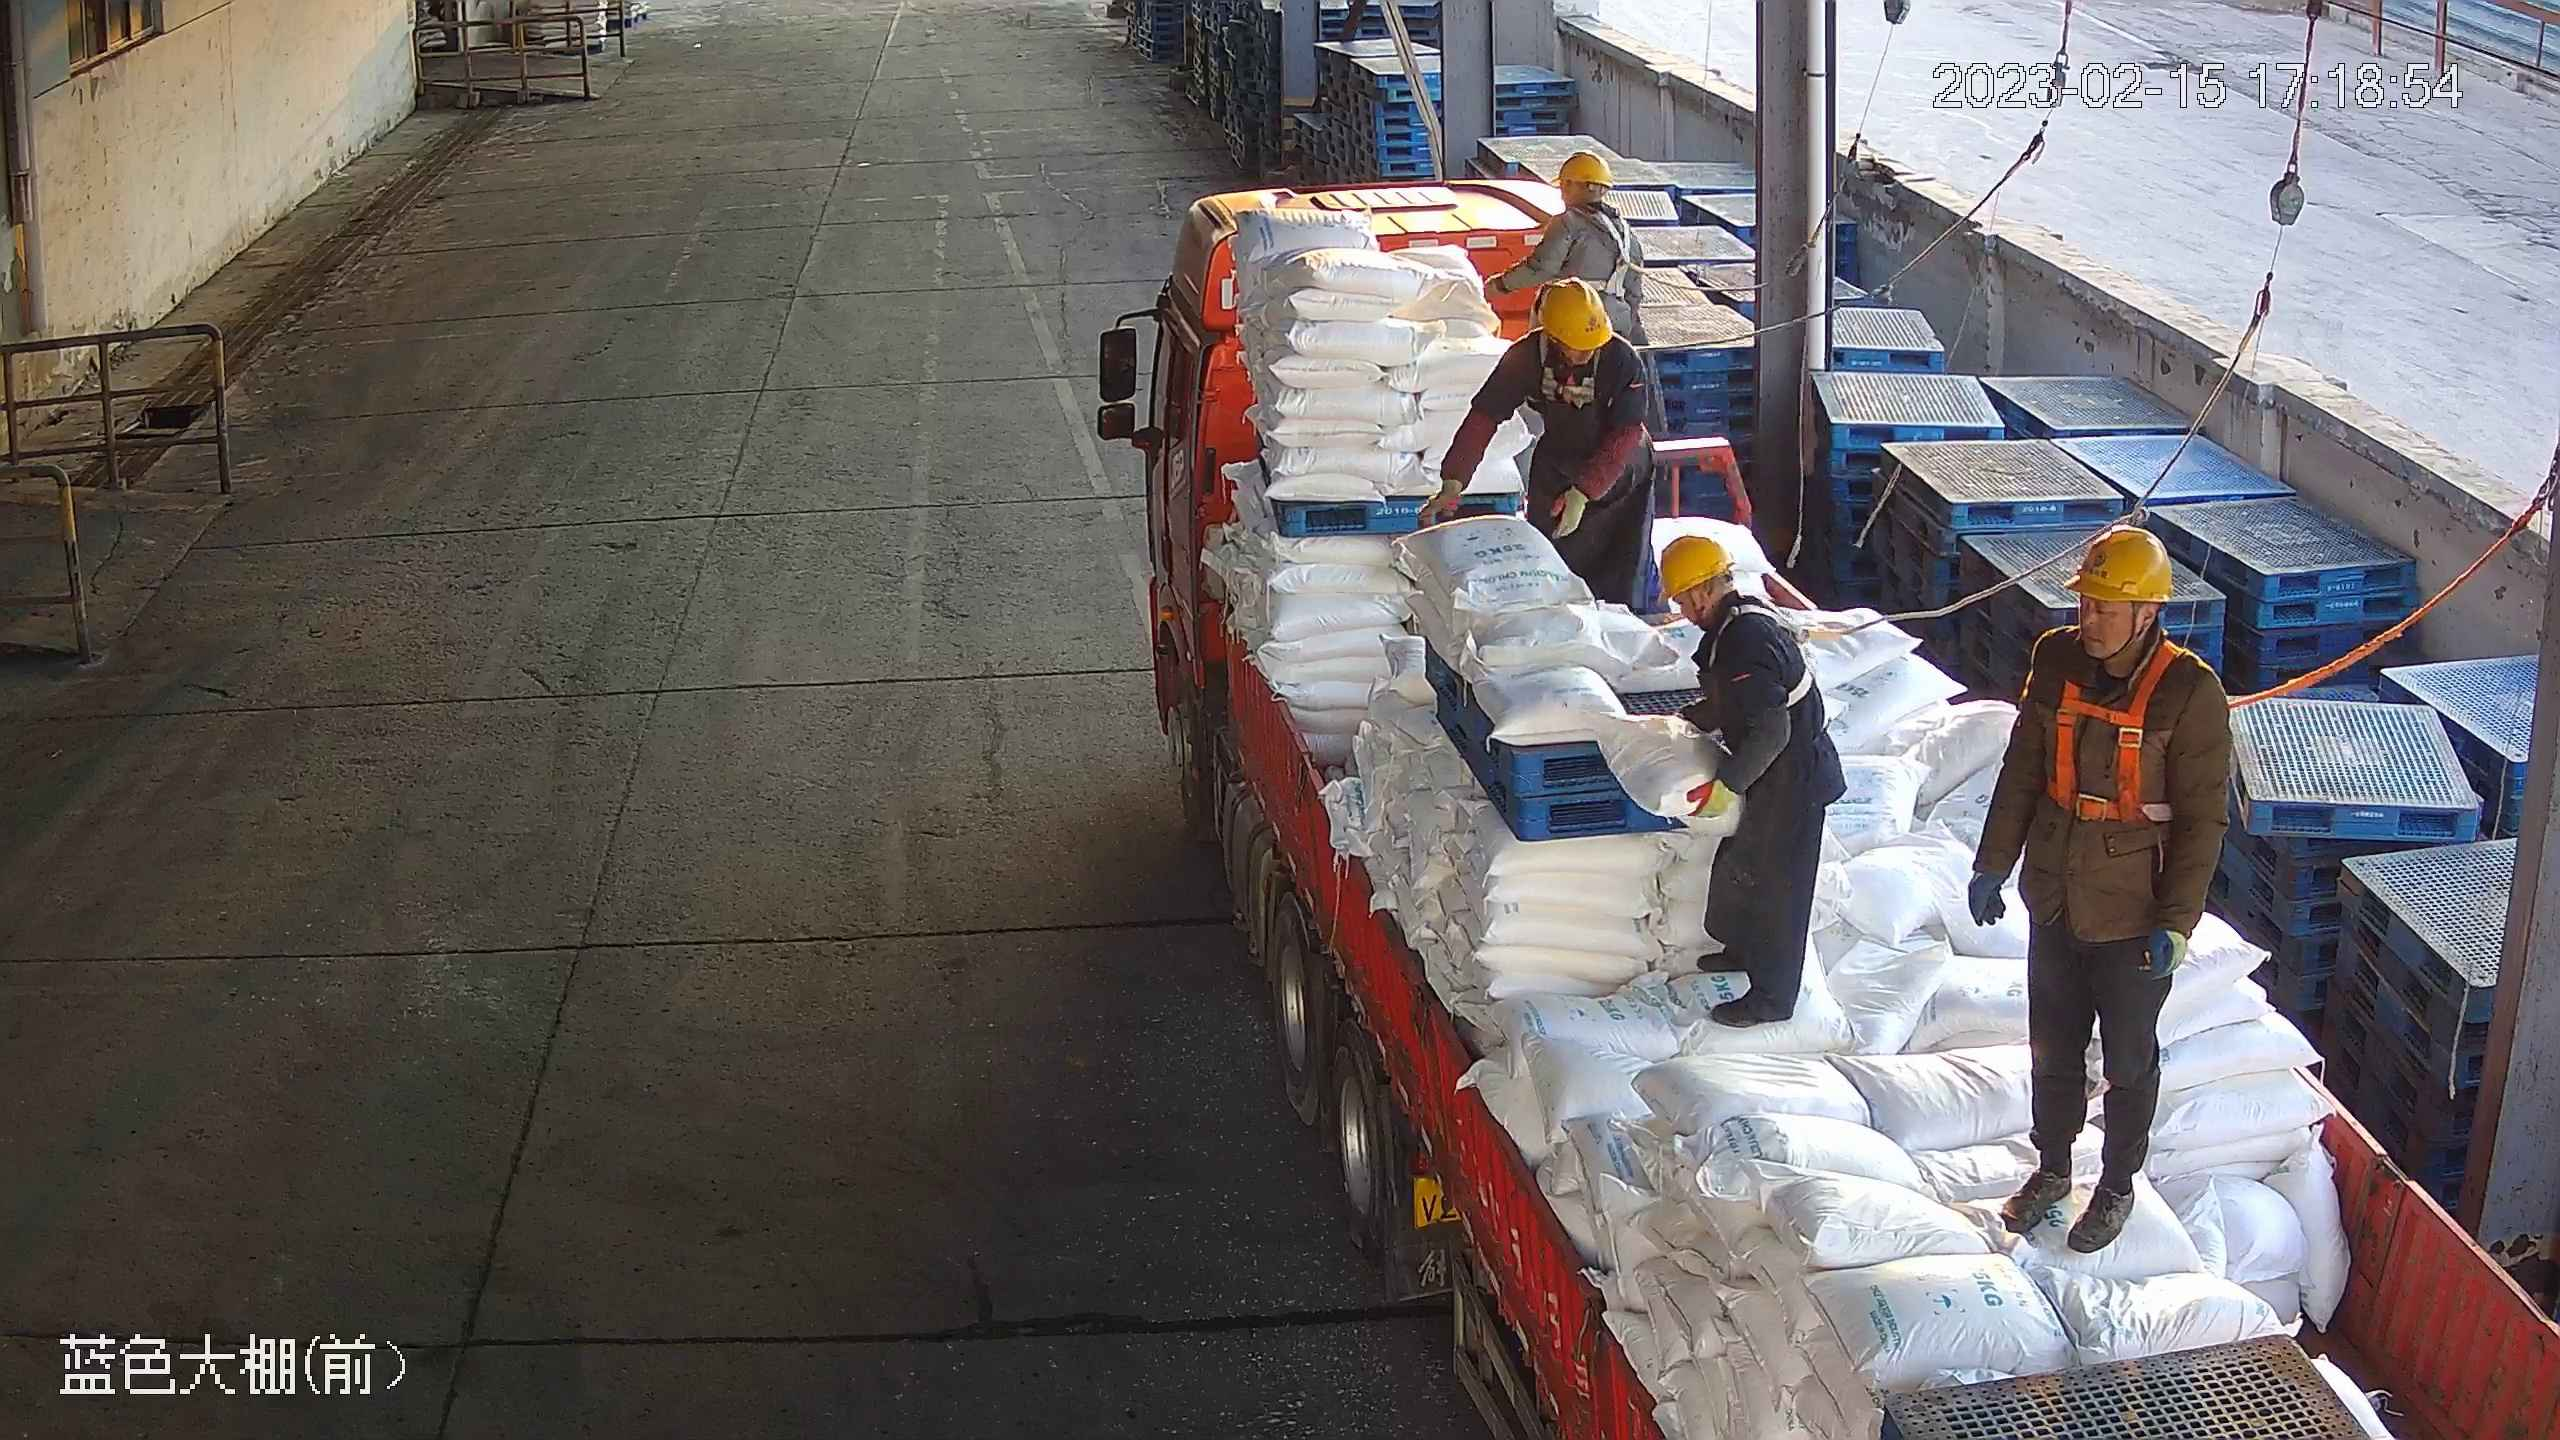belt: (2046, 637, 2247, 828), (1707, 594, 1834, 710), (1523, 330, 1667, 407), (1568, 204, 1651, 294)
head: (2027, 524, 2231, 711), (1657, 533, 1806, 677), (1498, 275, 1648, 379), (1535, 150, 1639, 244)
helmet: (2061, 523, 2174, 604), (1537, 274, 1615, 351), (1658, 534, 1735, 606), (1552, 150, 1614, 189)
people: (1966, 525, 2234, 1254), (1659, 533, 1848, 1031), (1417, 276, 1656, 614)
truck: (1141, 175, 2560, 1440)
